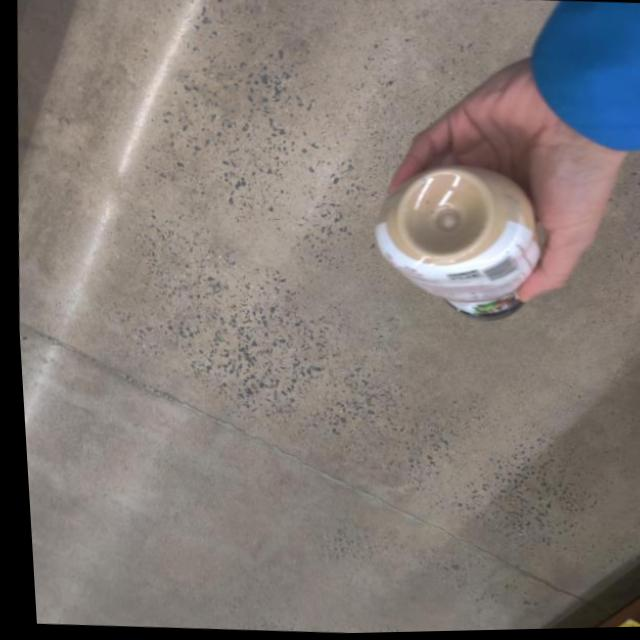Sauce: (350, 117, 578, 347)
